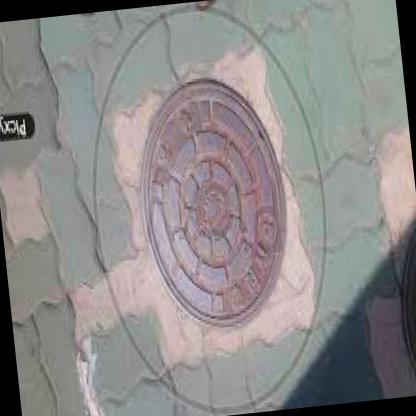manholes: (116, 56, 305, 352)
